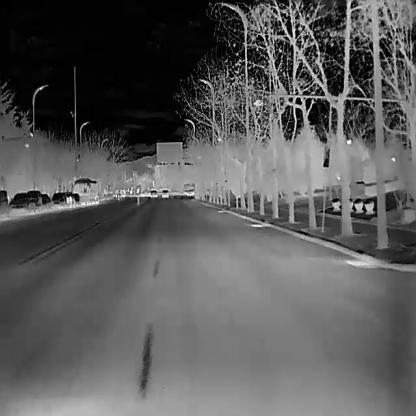bus: (71, 176, 99, 203)
car: (12, 190, 36, 212), (53, 190, 70, 210), (28, 188, 42, 210), (40, 192, 53, 210), (0, 188, 8, 217), (70, 192, 80, 206), (161, 188, 169, 198), (150, 190, 157, 198)
